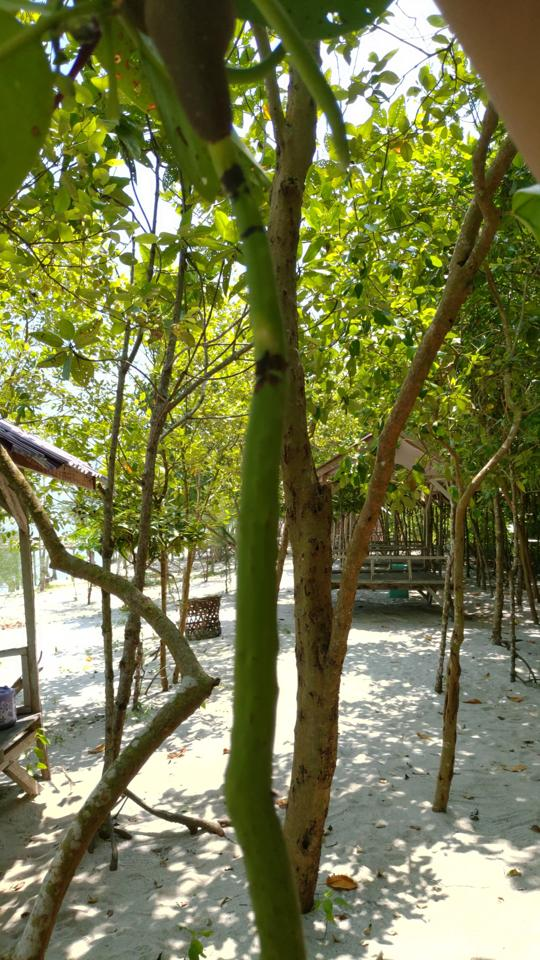setengah matang: (126, 1, 324, 956)
